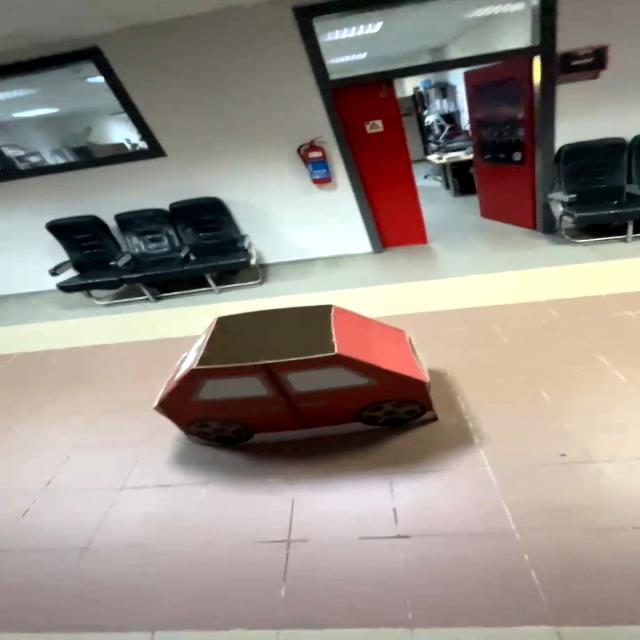red_car: (112, 298, 475, 468)
